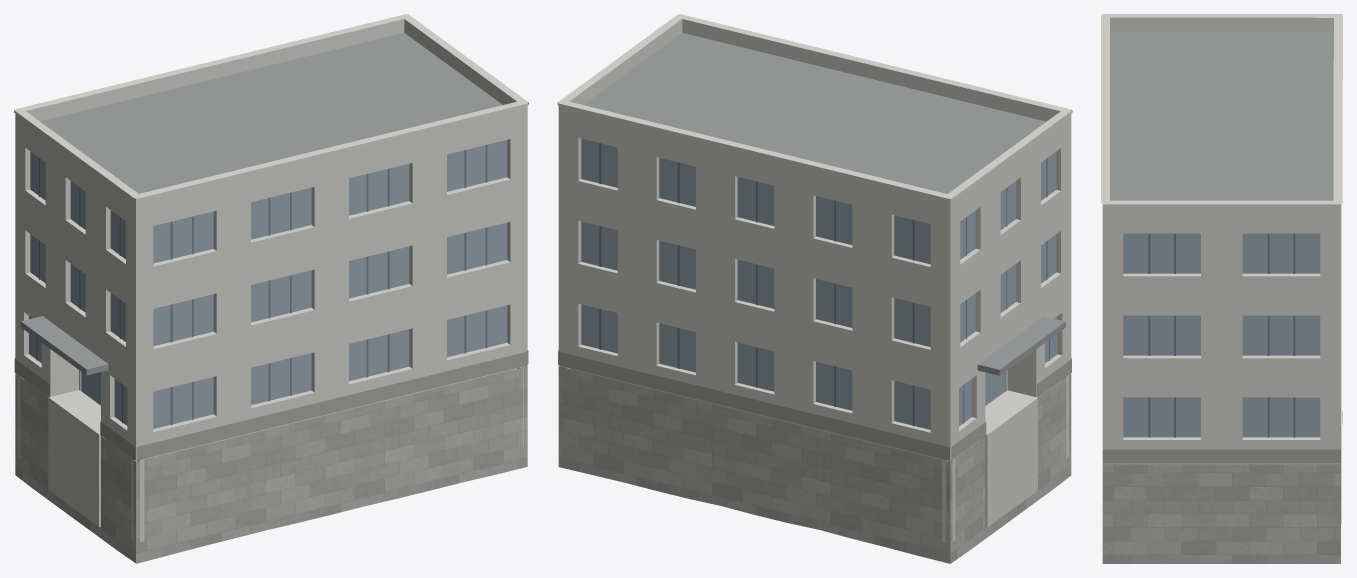
3 renders of one model, left to right at view 1: azimuth 30°, elevation 25°; view 2: azimuth 150°, elevation 25°; view 3: azimuth 270°, elevation 25°, orthographic.
Visible parts, largest first — view 1: student__wall, foundation__student, student__roof, student__glass, student__parapet, student__trim, student__base, student__entranceThreshold_0, student__frame, student__canopy, student__basementWall; view 2: student__wall, foundation__student, student__roof, student__glass, student__parapet, student__trim, student__base, student__entranceThreshold_0, student__frame, student__canopy, student__basementWall; view 3: student__roof, student__wall, foundation__student, student__glass, student__parapet, student__trim, student__base, student__frame, student__basementWall.
Boxes of the visible parts, box(x1,y1,x2,y2) form: student__wall: box(15, 116, 527, 460); foundation__student: box(15, 365, 527, 563); student__roof: box(40, 33, 502, 460); student__glass: box(29, 140, 507, 428); student__parapet: box(15, 19, 527, 211); student__trim: box(14, 14, 528, 200); student__base: box(14, 350, 528, 460); student__entranceThreshold_0: box(48, 390, 104, 526); student__frame: box(36, 145, 487, 424); student__canopy: box(20, 316, 108, 375); student__basementWall: box(17, 366, 525, 541); student__wall: box(558, 116, 1071, 460); foundation__student: box(558, 366, 1071, 563); student__roof: box(584, 32, 1045, 460); student__glass: box(581, 138, 1057, 429); student__parapet: box(558, 19, 1071, 212); student__trim: box(557, 14, 1072, 201); student__base: box(558, 350, 1071, 460); student__entranceThreshold_0: box(981, 390, 1037, 527); student__frame: box(599, 143, 1049, 426); student__canopy: box(977, 316, 1065, 375); student__basementWall: box(561, 366, 1068, 542); student__roof: box(1110, 31, 1341, 423); student__wall: box(1102, 204, 1341, 449); foundation__student: box(1102, 425, 1341, 563); student__glass: box(1123, 233, 1320, 437); student__parapet: box(1102, 17, 1340, 217); student__trim: box(1101, 14, 1342, 206); student__base: box(1102, 411, 1342, 463); student__frame: box(1148, 233, 1295, 437); student__basementWall: box(1102, 463, 1340, 464).
Size of the model in its own units: 18.89 by 15.92 by 9.64.
Materials: 12 (1 with a texture image).
